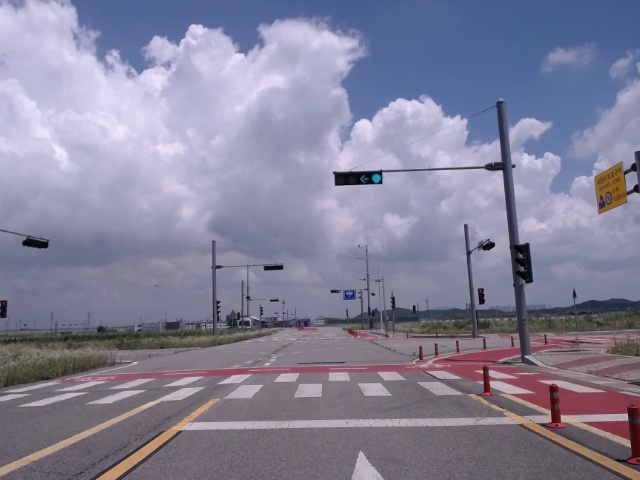all_green_4: (334, 172, 382, 183)
